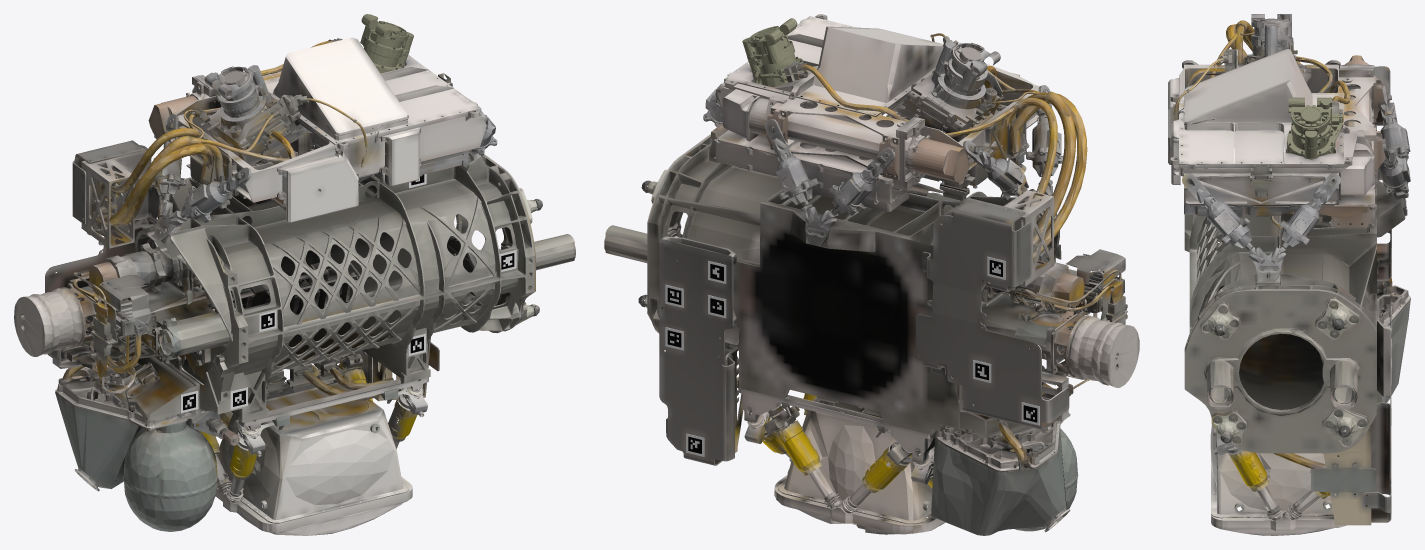
File: Turret.gltf
3 renders of one model, left to right at view 1: azimuth 30°, elevation 25°; view 2: azimuth 150°, elevation 25°; view 3: azimuth 270°, elevation 25°, orthographic. The views are drawn at different scales.
Visible parts, largest first — view 1: Mesh_0; view 2: Mesh_0; view 3: Mesh_0.
Boxes of the visible parts, x1,y1,x2,y2 form: Mesh_0: (14, 14, 575, 535); Mesh_0: (604, 14, 1139, 535); Mesh_0: (1168, 14, 1410, 535).
Size of the model in its own units: 0.7097 by 0.6647 by 0.308.
1 material, 1 textured.
